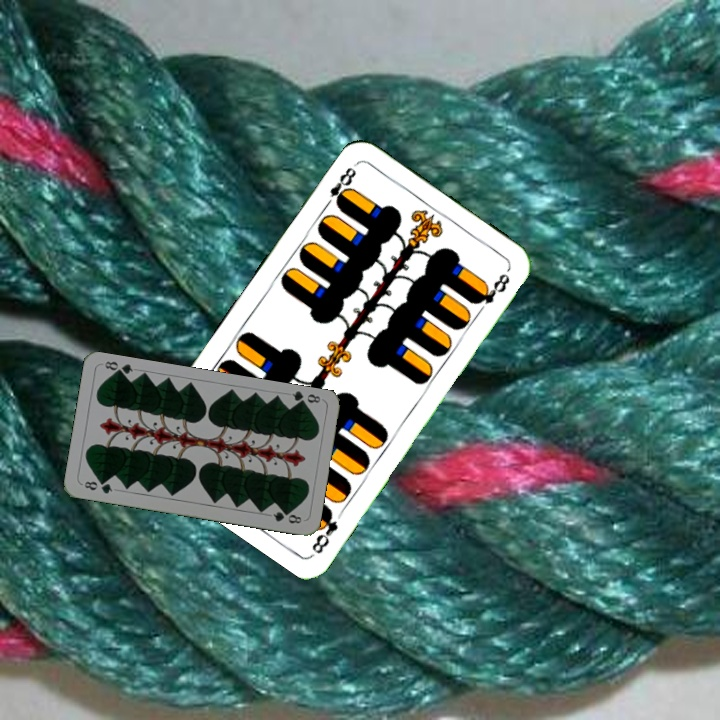E8: (307, 504, 348, 557), (319, 160, 359, 212)
G8: (288, 387, 323, 409), (80, 477, 115, 496)
